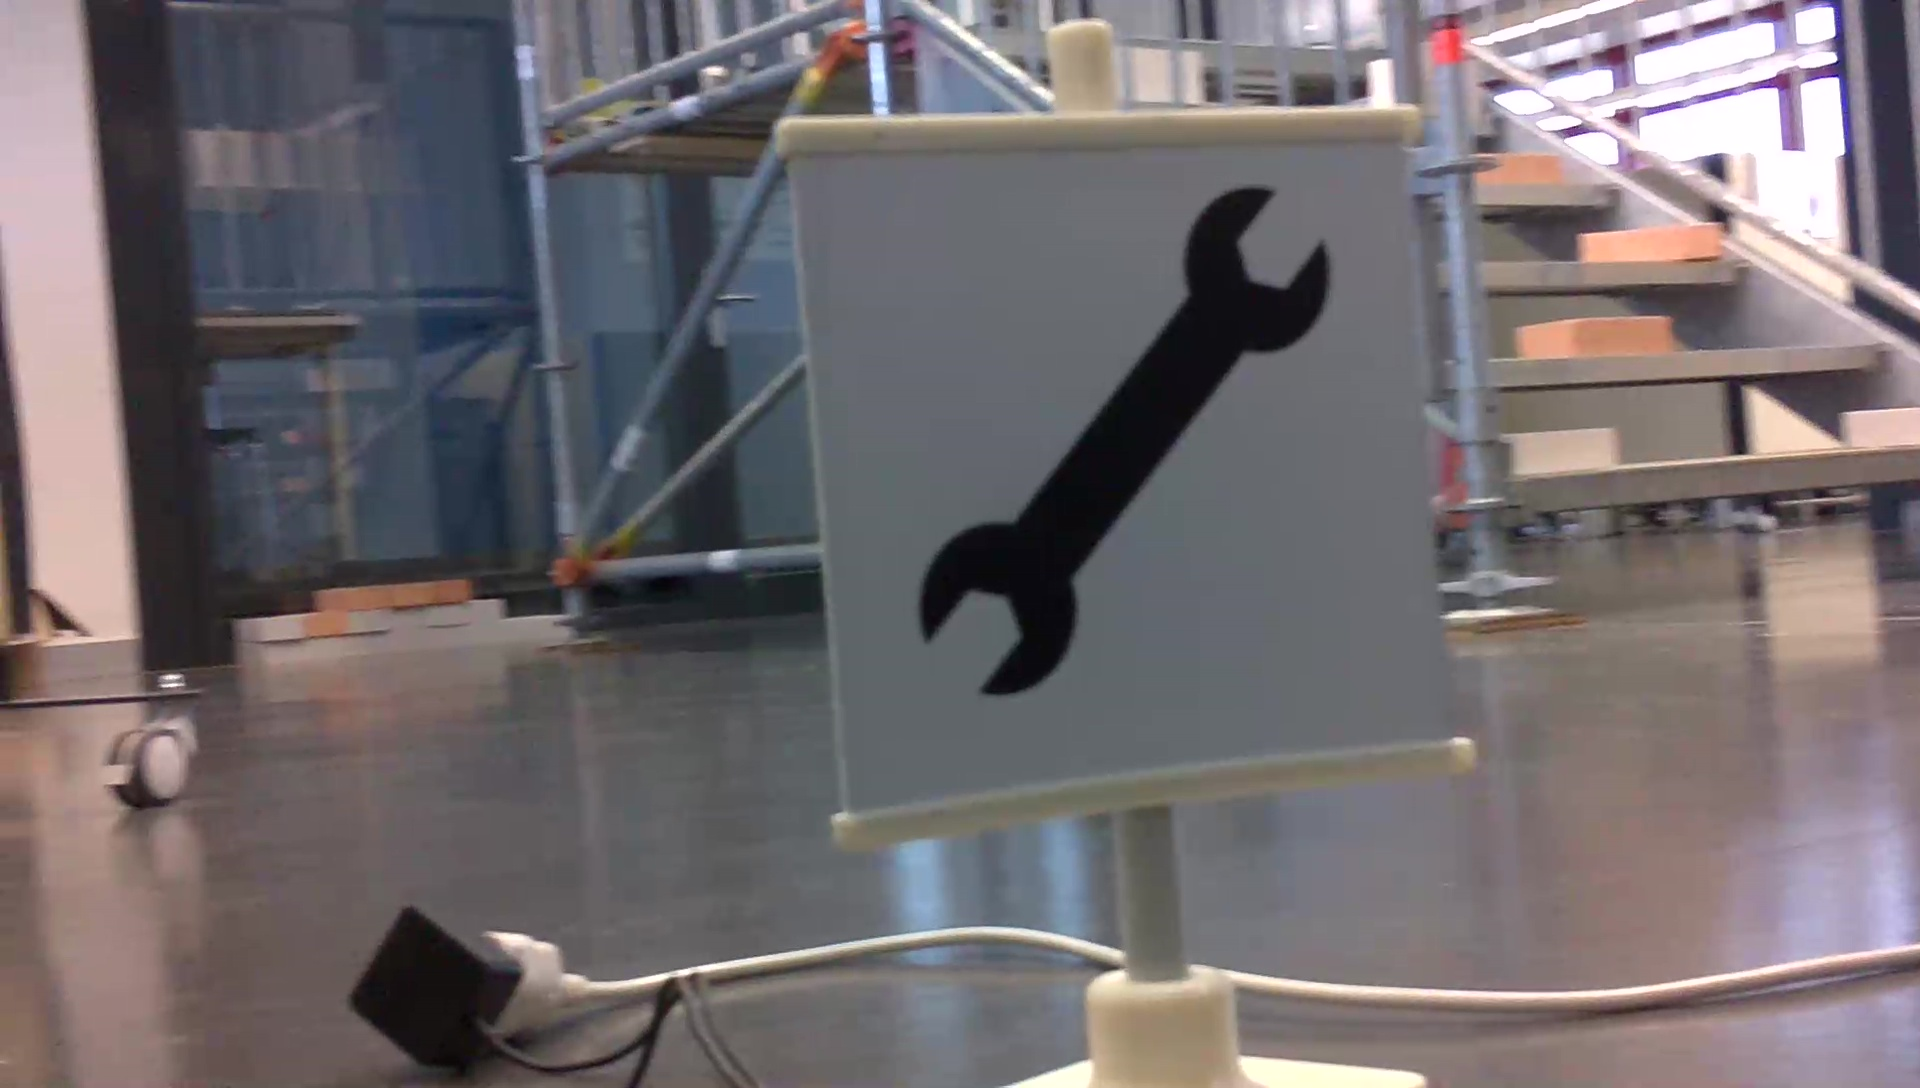brick: (1519, 318, 1665, 357), (1582, 226, 1717, 257), (1510, 433, 1613, 468), (1845, 410, 1917, 444), (1490, 153, 1557, 185)
edge: (1520, 447, 1917, 508), (1493, 346, 1886, 385), (1480, 257, 1747, 287), (1474, 181, 1625, 204)
wrench: (909, 179, 1342, 711)
